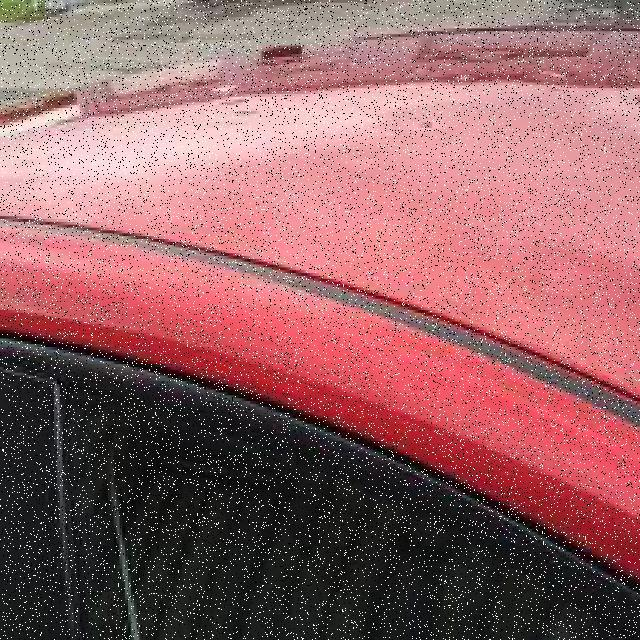roof-dent: (148, 49, 498, 325), (504, 29, 638, 328)
